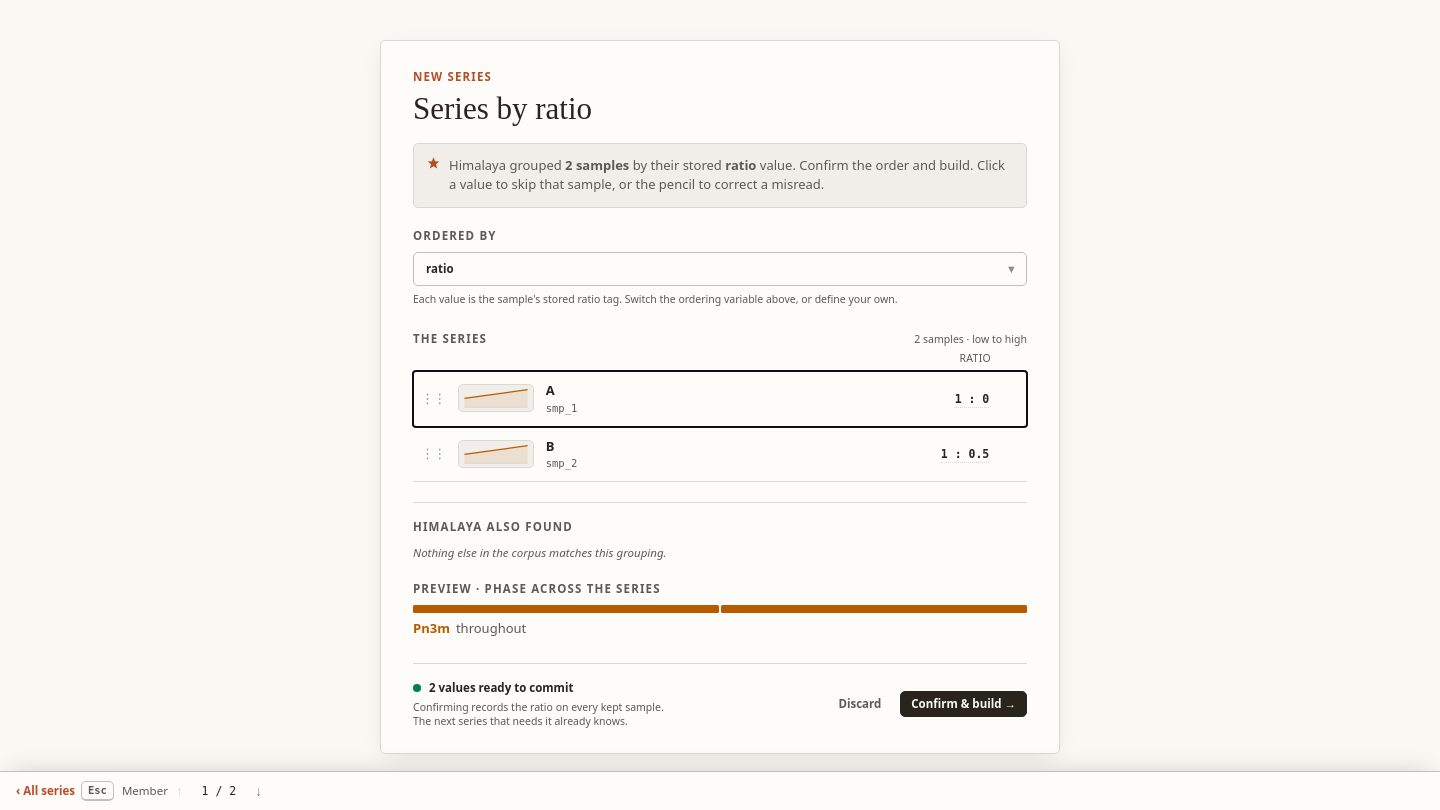
SeriesScopingPage › disables build when every member is skipped, and re-enables on unskip
Step 1. Click the button with test id "flag-button" → point(943, 398), box [897,386,989,410]
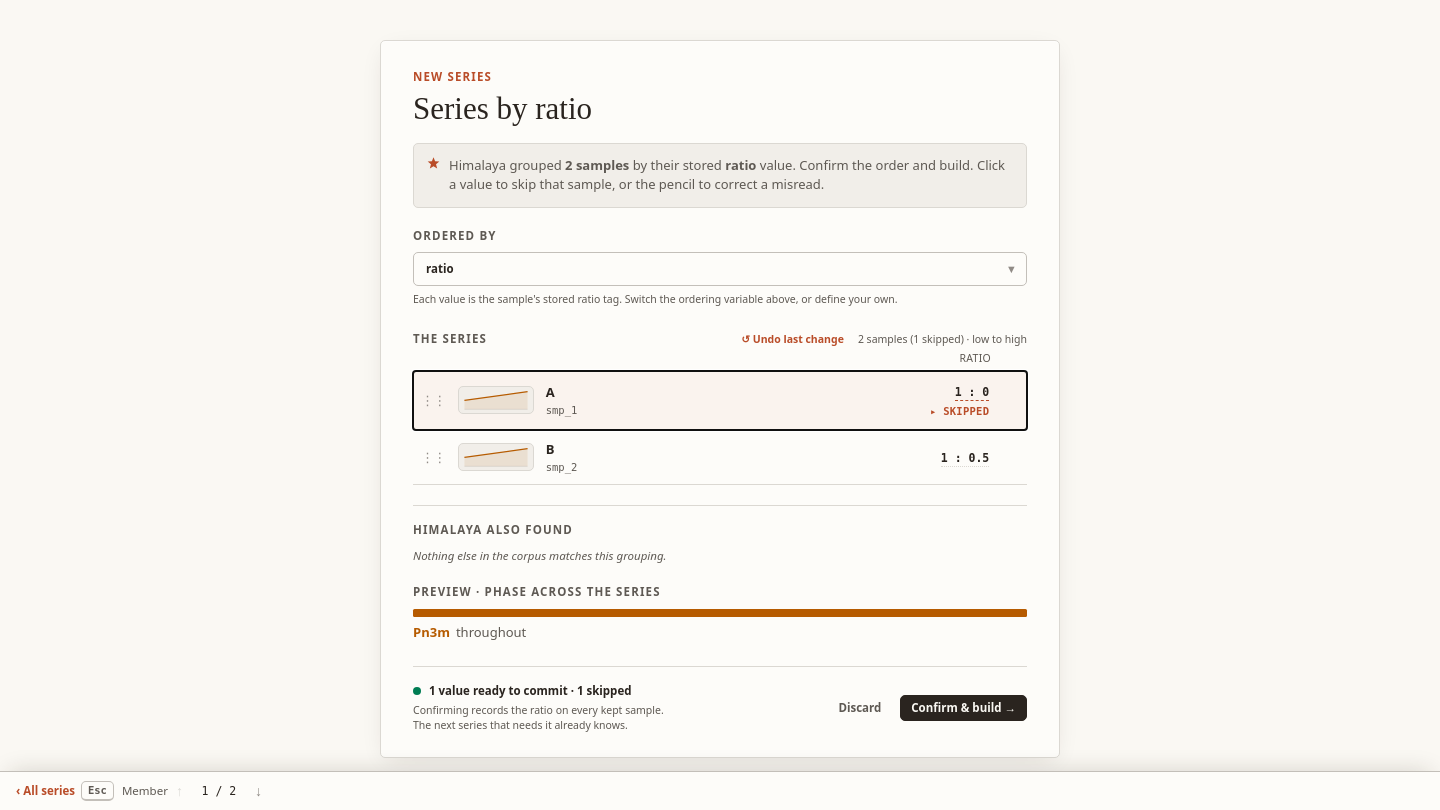
Step 2. Click the button with test id "flag-button" → point(943, 457), box [897,445,989,469]
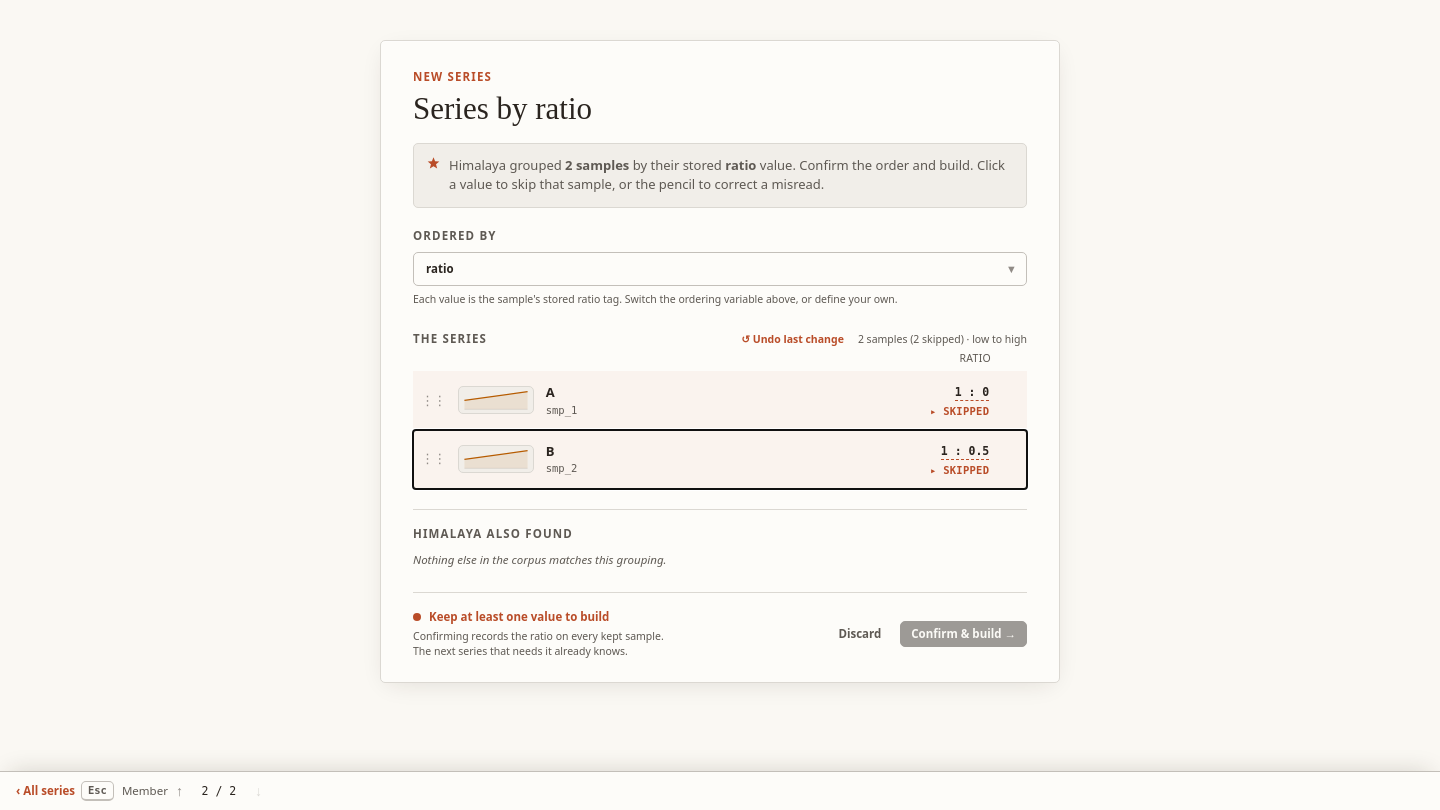
Check: the text "Keep at least one value to build" is shown, box [413,609,609,624]
Check: the button "Confirm & build →" is disabled, box [900,621,1027,647]
// Unskip one → build re-enables.
Step 3. Click the button with test id "flag-button" → point(943, 400), box [897,381,989,419]
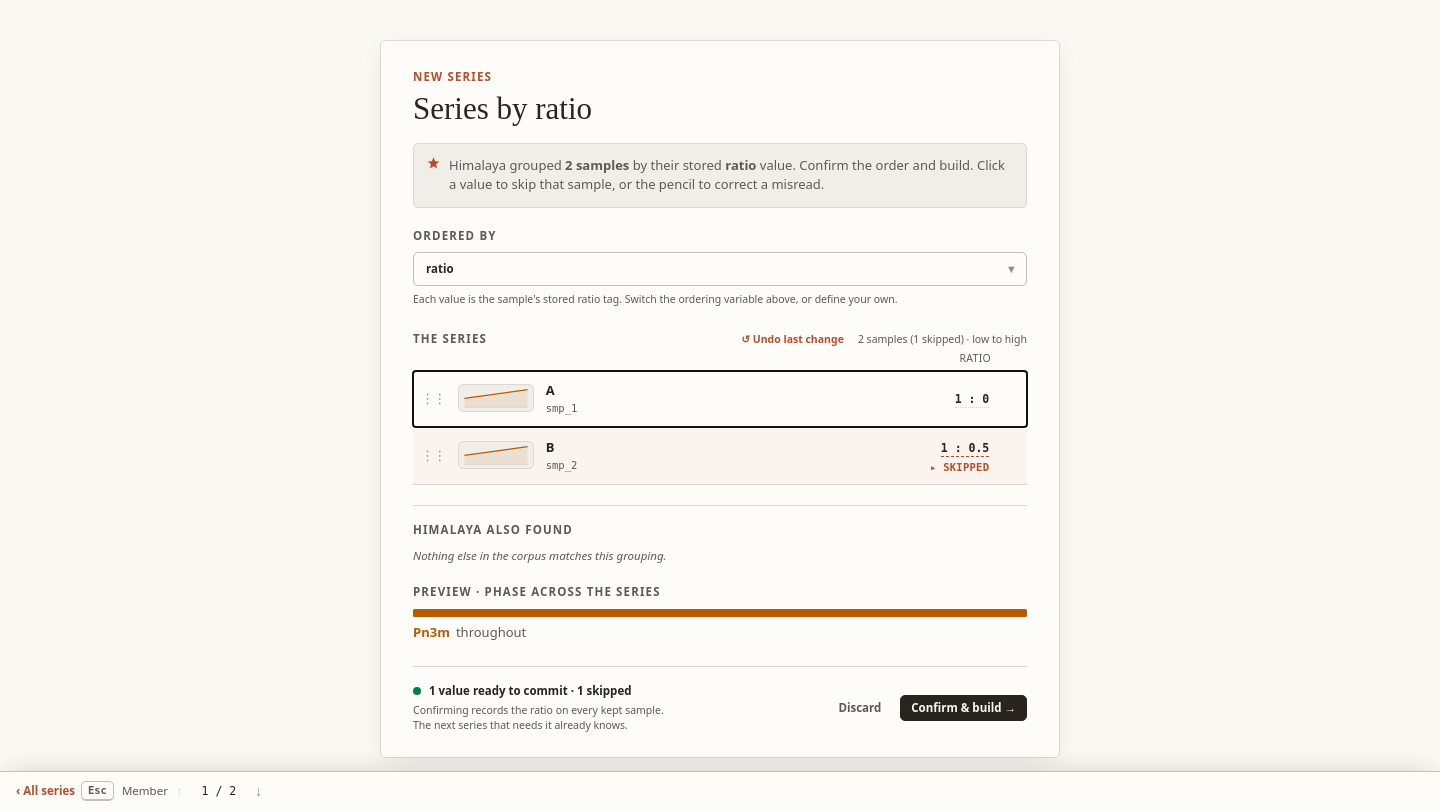
Check: the button "Confirm & build →" is enabled, box [900,695,1027,721]
